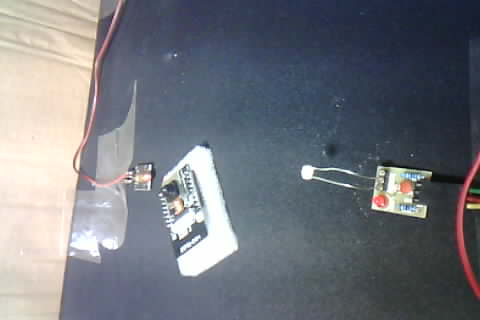esp32: (151, 157, 221, 265)
